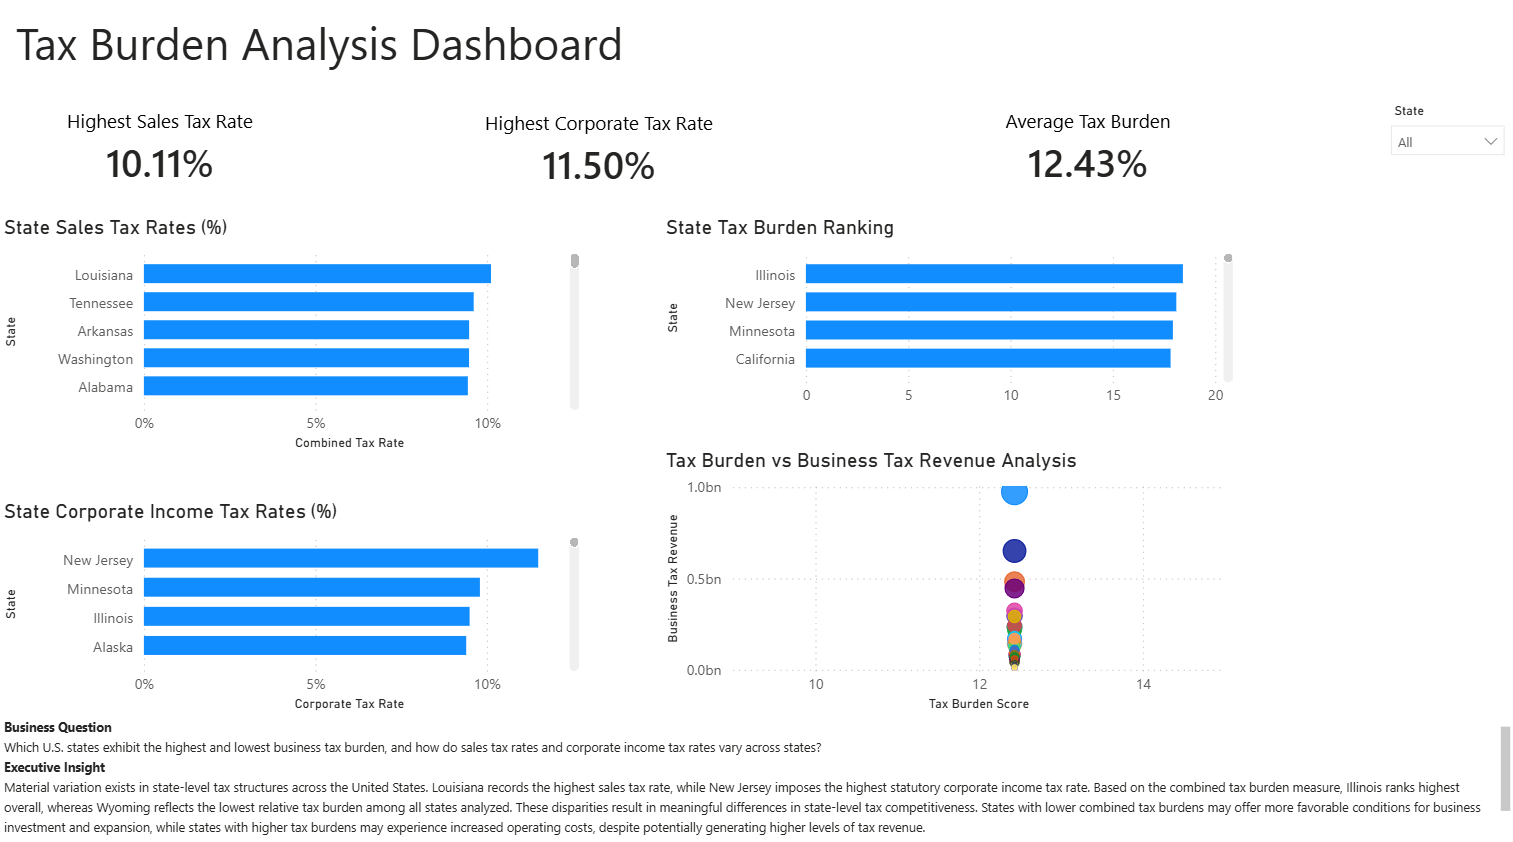

This screenshot's page, from the dashboard's own definition file:
{"tool":"powerbi","page":{"name":"Page 2 – Tax Burden Analysis","canvas":[1280,720],"ordinal":1},"visuals":[{"type":"clusteredBarChart","title":"State Sales Tax Rates (%)","fields":{"Category":["sales_tax_rate_2025_cleaned.State"],"Y":["Avg(sales_tax_rate_2025_cleaned.Combined Tax Rate)"]},"box":[0,189.9,495.2,202.4],"z":0},{"type":"clusteredBarChart","title":"State Corporate Income Tax Rates (%)","fields":{"Category":["corporate_tax_rate_2026_cleaned.State"],"Y":["Avg(corporate_tax_rate_2026_cleaned.Rates)"]},"box":[0,429,495.2,198.8],"z":1000},{"type":"clusteredBarChart","title":"State Tax Burden Ranking","fields":{"Category":["corporate_tax_rate_2026_cleaned.State"],"Y":["corporate_tax_rate_2026_cleaned.Tax Burden Score"]},"box":[557.9,189.9,488.1,170.1],"z":2000},{"type":"scatterChart","title":"Tax Burden vs Business Tax Revenue Analysis","fields":{"X":["corporate_tax_rate_2026_cleaned.Tax Burden Score"],"Y":["fact_business_tax.Business Tax Revenue"],"Series":["fact_business_tax.State"],"Size":["Sum(fact_business_tax.Population)"]},"box":[557.9,386,488.1,241.8],"z":3000},{"type":"cardVisual","fields":{"Data":["corporate_tax_rate_2026_cleaned.Highest Sales Tax Rate"]},"box":[9.9,77,253.4,111],"z":4000},{"type":"cardVisual","fields":{"Data":["corporate_tax_rate_2026_cleaned.Highest Corporate Tax Rate"]},"box":[380.6,78.8,253.4,111],"z":5000},{"type":"cardVisual","fields":{"Data":["corporate_tax_rate_2026_cleaned.Average Tax Burden"]},"box":[792.5,77,253.4,111],"z":6000},{"type":"slicer","fields":{"Values":["corporate_tax_rate_2026_cleaned.State"]},"box":[1164.2,90.4,115.5,119.1],"z":7000},{"type":"textbox","box":[0,627.8,1279.7,92.2],"z":8000},{"type":"textbox","box":[9.9,14.3,609.9,62.7],"z":9000}]}

Visuals, with their boxes in screenshot pixels (x1, y1, x2, y2), scaled from the page's 1280x720 canvas onto the 1513x842 screenshot:
"State Sales Tax Rates (%)" clusteredBarChart: x1=0 y1=222 x2=585 y2=459
"State Corporate Income Tax Rates (%)" clusteredBarChart: x1=0 y1=502 x2=585 y2=734
"State Tax Burden Ranking" clusteredBarChart: x1=659 y1=222 x2=1236 y2=421
"Tax Burden vs Business Tax Revenue Analysis" scatterChart: x1=659 y1=451 x2=1236 y2=734
cardVisual - corporate_tax_rate_2026_cleaned.Highest Sales Tax Rate: x1=12 y1=90 x2=311 y2=220
cardVisual - corporate_tax_rate_2026_cleaned.Highest Corporate Tax Rate: x1=450 y1=92 x2=749 y2=222
cardVisual - corporate_tax_rate_2026_cleaned.Average Tax Burden: x1=937 y1=90 x2=1236 y2=220
slicer - corporate_tax_rate_2026_cleaned.State: x1=1376 y1=106 x2=1512 y2=245
textbox: x1=0 y1=734 x2=1512 y2=841
textbox: x1=12 y1=17 x2=733 y2=90
